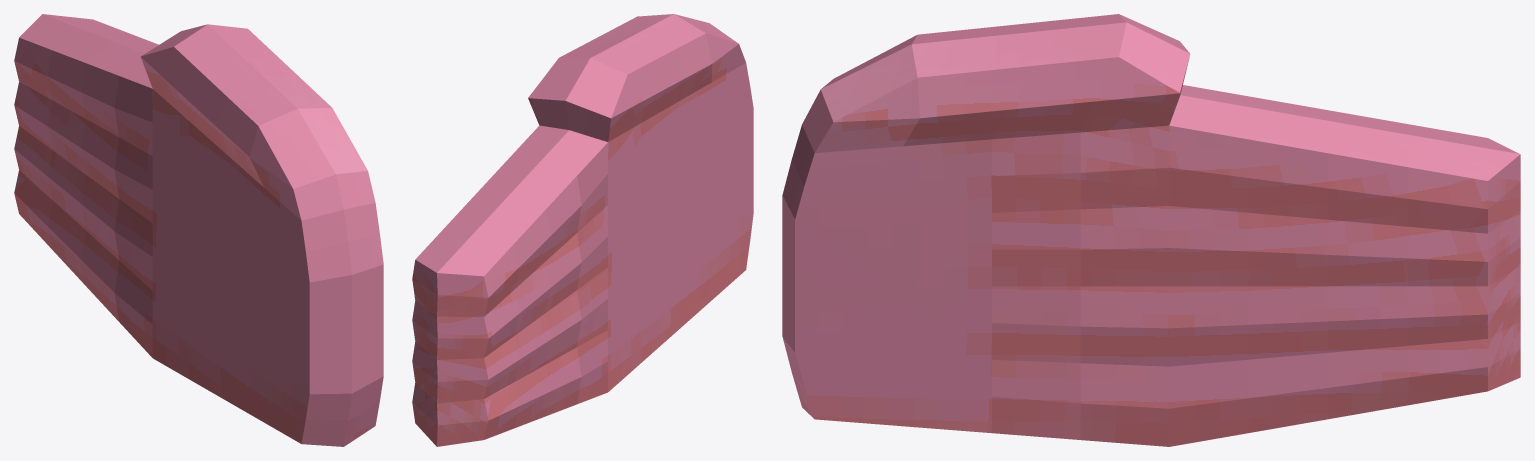
Rendered from hand.glb.
3 views of the same model, side by side, from view 1: azimuth 30°, elevation 25°; view 2: azimuth 150°, elevation 25°; view 3: azimuth 270°, elevation 25° (orthographic). The views are drawn at different scales.
Parts seen in each view (by area): view 1: Cube; view 2: Cube; view 3: Cube.
Part boxes in pixels (x1=…): Cube: x1=14, y1=14, x2=383, y2=446; Cube: x1=412, y1=14, x2=753, y2=446; Cube: x1=782, y1=14, x2=1520, y2=446.
Bounding box in the file's own units: 0.6954 × 2.58 × 4.16.
Materials: 1 (1 with a texture image).
